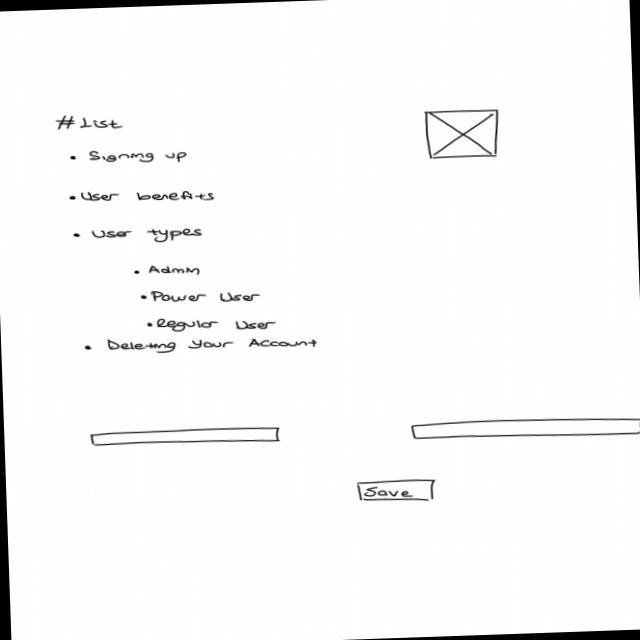button: (357, 478, 438, 505)
image: (423, 108, 502, 161)
input: (409, 414, 640, 443), (89, 426, 281, 448)
label: (105, 333, 320, 358), (79, 186, 217, 207), (156, 313, 279, 336), (150, 286, 262, 307), (90, 226, 204, 246), (89, 147, 190, 166), (54, 113, 125, 133), (149, 263, 203, 280)
